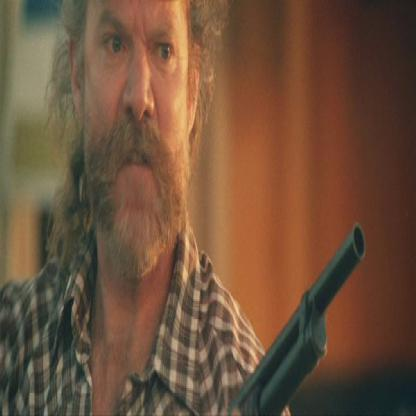Gun: (222, 220, 366, 414)
